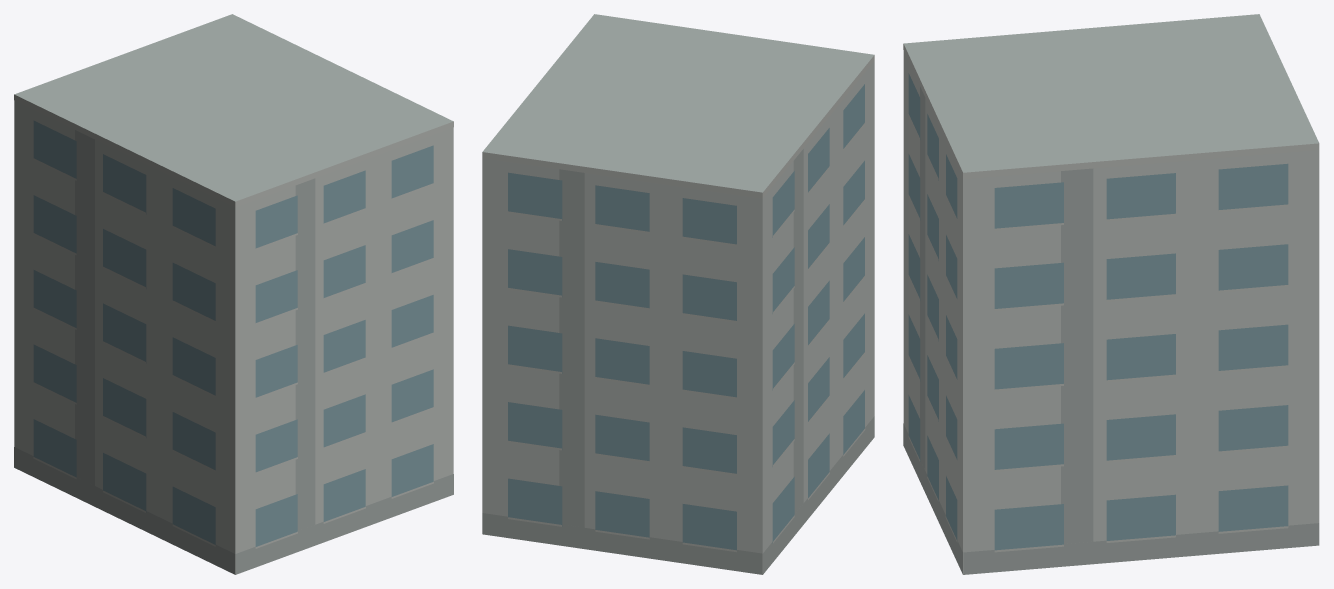
Rendered from residential-2883f992-f80f-402c-b5ec-e79bf28d76d8.glb.
3 views of the same model, side by side, from view 1: azimuth 30°, elevation 25°; view 2: azimuth 150°, elevation 25°; view 3: azimuth 270°, elevation 25° (orthographic). The views are drawn at different scales.
Parts seen in each view (by area): view 1: residential-2883f992-f80f-402c-b5ec-e79bf28d76d8.tmp; view 2: residential-2883f992-f80f-402c-b5ec-e79bf28d76d8.tmp; view 3: residential-2883f992-f80f-402c-b5ec-e79bf28d76d8.tmp.
Boxes of the visible parts, x1=… form: residential-2883f992-f80f-402c-b5ec-e79bf28d76d8.tmp: x1=14, y1=14, x2=453, y2=574; residential-2883f992-f80f-402c-b5ec-e79bf28d76d8.tmp: x1=482, y1=14, x2=874, y2=574; residential-2883f992-f80f-402c-b5ec-e79bf28d76d8.tmp: x1=903, y1=14, x2=1319, y2=574.
Size of the model in its own units: 12.92 by 15.25 by 14.31.
